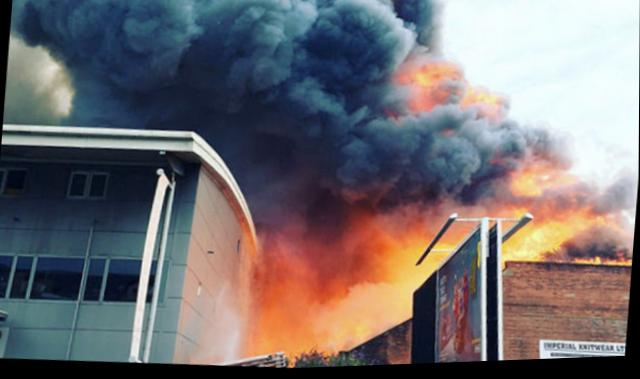fire: (251, 218, 412, 361), (519, 211, 576, 262), (511, 169, 543, 205), (410, 66, 434, 111), (467, 86, 498, 109)
smoke: (3, 0, 403, 142), (220, 121, 463, 200), (465, 122, 580, 170), (244, 184, 359, 222), (398, 0, 450, 64), (594, 174, 634, 222), (581, 235, 623, 257)
